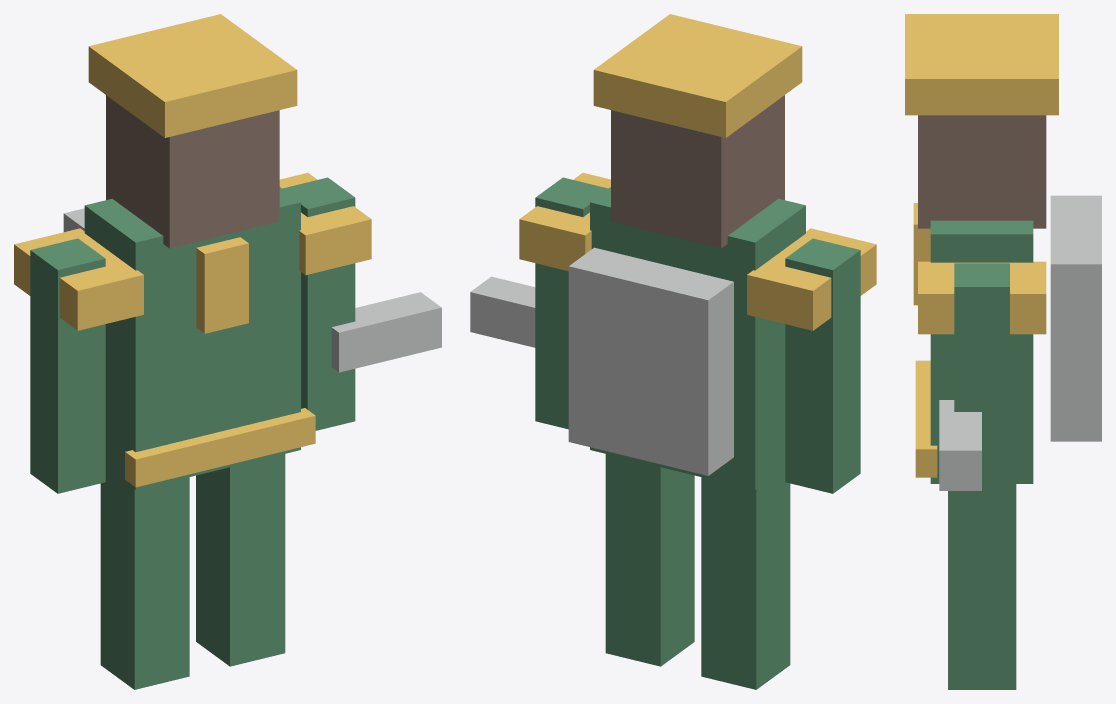
The model's file is 08_auren_frostrelay_runner_near_dub.glb.
3 renders of one model, left to right at view 1: azimuth 30°, elevation 25°; view 2: azimuth 150°, elevation 25°; view 3: azimuth 270°, elevation 25°, orthographic.
Visible parts, largest first — view 1: Auren Frostrelay, Runner near Dub; view 2: Auren Frostrelay, Runner near Dub; view 3: Auren Frostrelay, Runner near Dub.
Boxes of the visible parts, left/top/right/bottom form: Auren Frostrelay, Runner near Dub: left=14, top=14, right=441, bottom=689; Auren Frostrelay, Runner near Dub: left=470, top=14, right=876, bottom=689; Auren Frostrelay, Runner near Dub: left=905, top=14, right=1101, bottom=689.
Size of the model in its own units: 1.03 by 1.58 by 0.4643.
